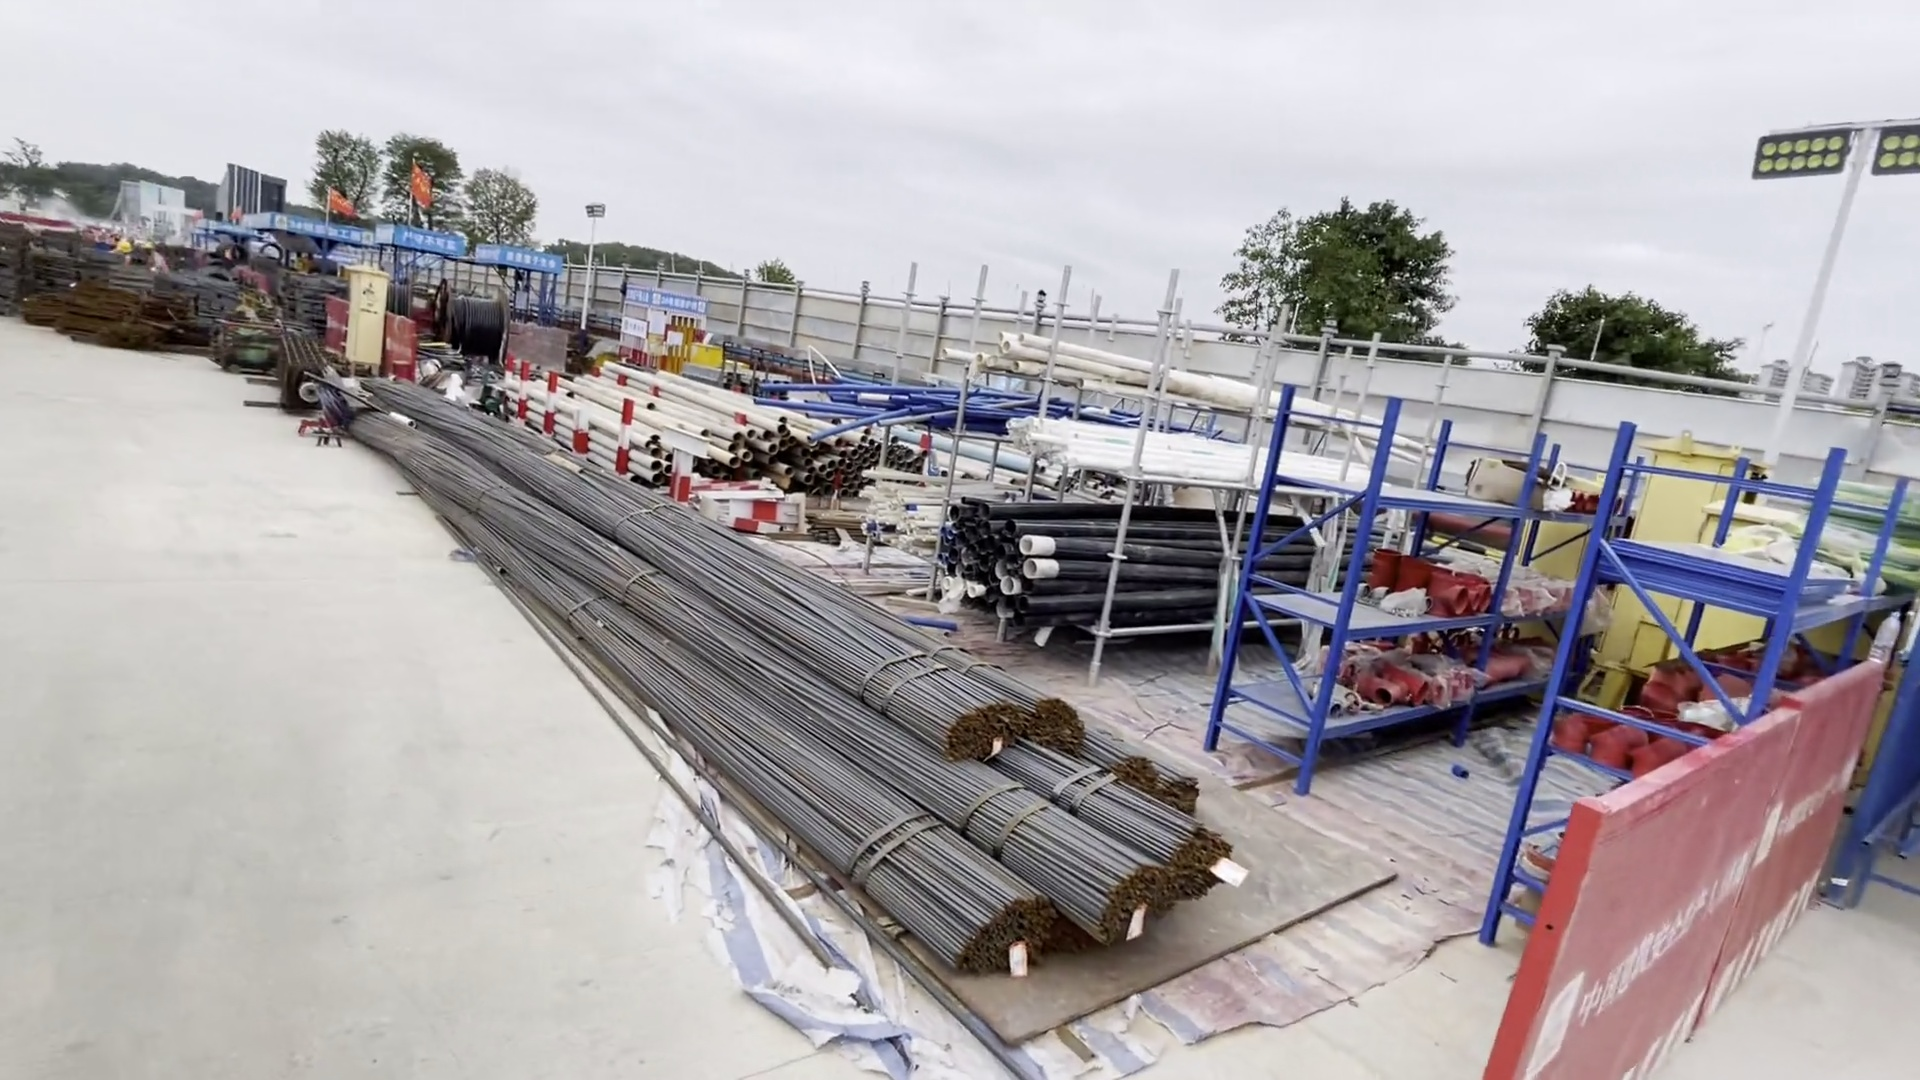ebox: (1600, 431, 1802, 674), (340, 264, 388, 381)
fence: (1532, 671, 1868, 1080)
person: (138, 242, 164, 275)
rebar: (337, 371, 1252, 978)
